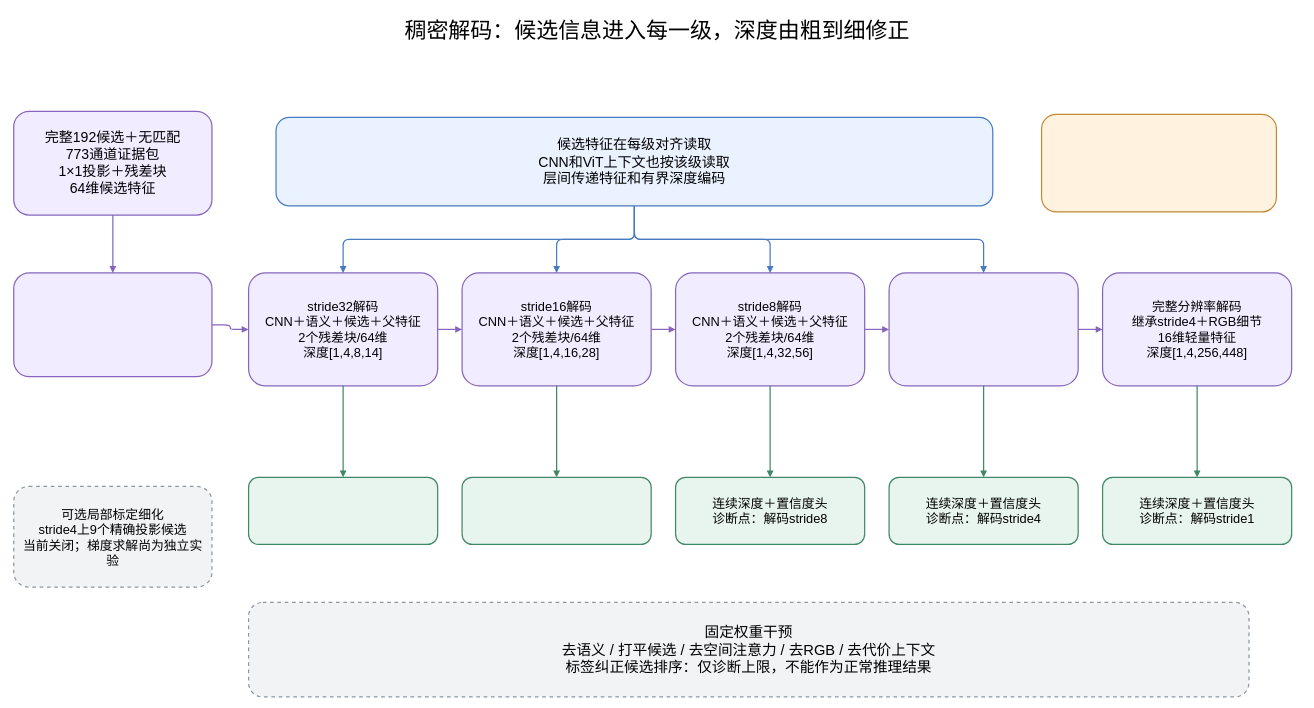
Some shapes in this 1314 by 708 pixel diagram are drawn without their labels. Here are the shapes that lost their labels. From the top down, the box of each, then its label:
(1041, 113, 1277, 212): 本配置：首级学习深度 其后预测深度编码残差 不直接继承粗深度均值
(13, 272, 212, 377): stride16空间Transformer 2层/4头 448位置/每相机 位置含像素、射线与相机中心
(888, 272, 1078, 386): stride4解码 CNN＋语义＋候选＋父特征 2个残差块/64维 深度[1,4,64,112]
(248, 476, 438, 545): 连续深度＋置信度头 诊断点：解码stride32
(461, 476, 651, 545): 连续深度＋置信度头 诊断点：解码stride16
